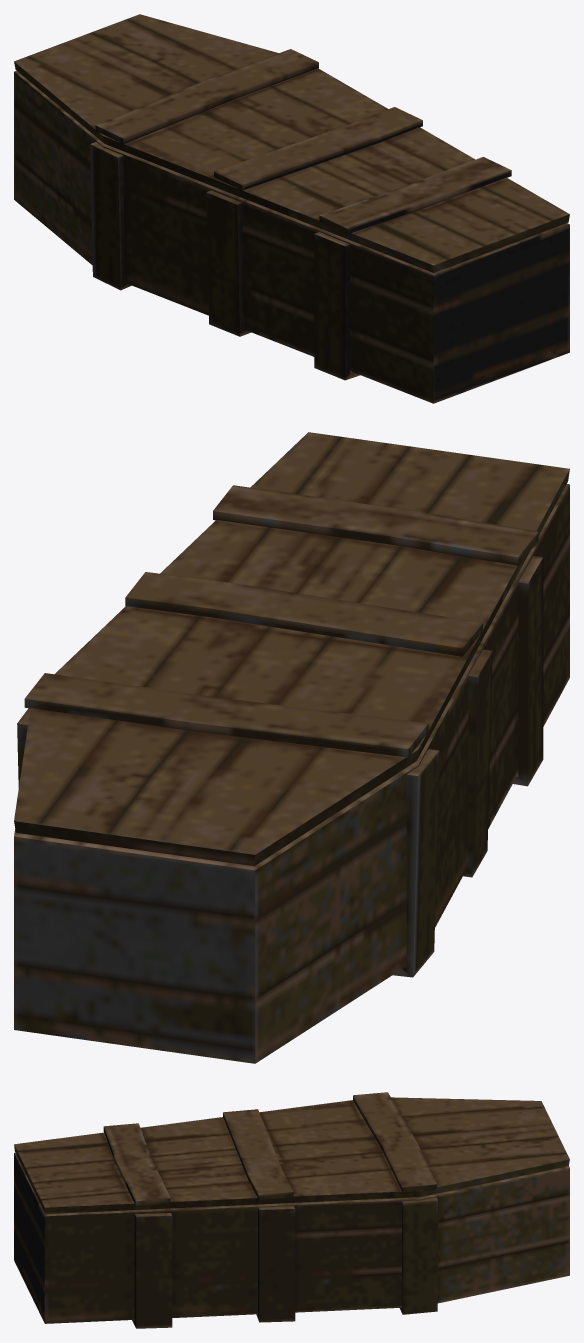
The model's file is Closed_Coffin.fbx.
3 renders of one model, top to bottom at view 1: azimuth 30°, elevation 25°; view 2: azimuth 150°, elevation 25°; view 3: azimuth 270°, elevation 25°, orthographic. The views are drawn at different scales.
Parts seen in each view (by area): view 1: Closed_Coffin; view 2: Closed_Coffin; view 3: Closed_Coffin.
Part boxes in pixels (bbox=[...]): Closed_Coffin: bbox=[14, 14, 569, 403]; Closed_Coffin: bbox=[14, 432, 569, 1063]; Closed_Coffin: bbox=[14, 1092, 569, 1328].
Size of the model in its own units: 350 by 183 by 726.
